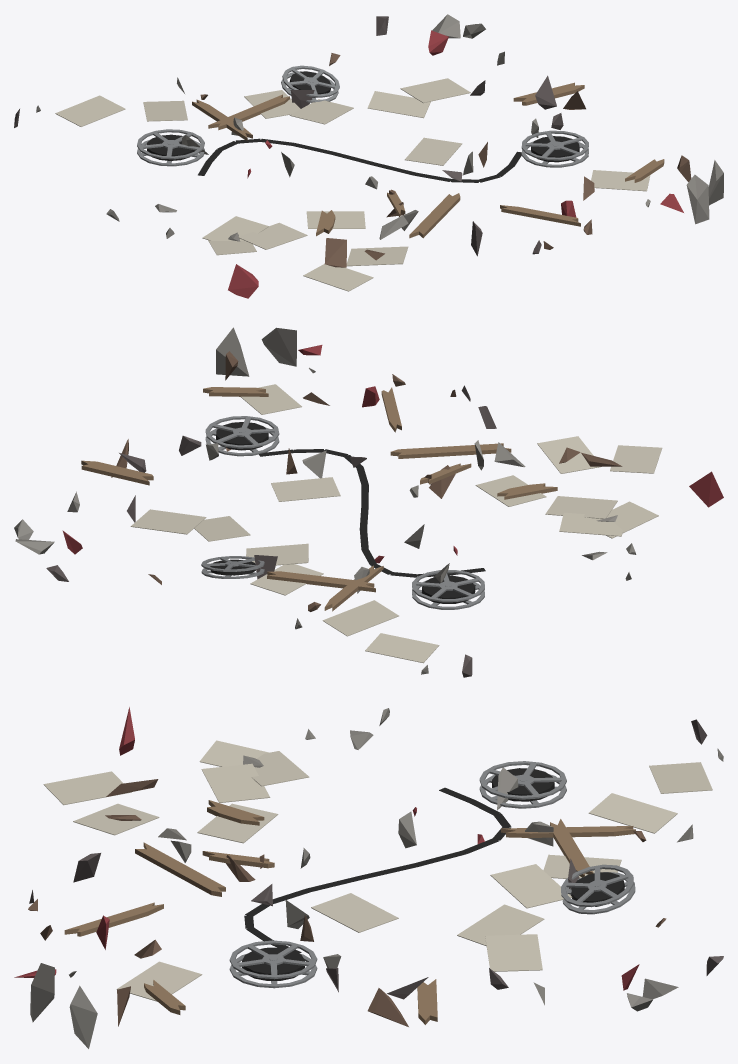
Rendered from debris_scatter.glb.
The picture shows the model from 3 angles, top to bottom: view 1: azimuth 30°, elevation 25°; view 2: azimuth 150°, elevation 25°; view 3: azimuth 270°, elevation 25°; orthographic projection. The views are drawn at different scales.
Parts seen in each view (by area): view 1: paper__debris_scatter__ns, plank__debris_scatter__ns, steel__debris_scatter__ns, concrete__debris_scatter__ns, rubber__debris_scatter__ns, ceiling_theater__debris_scatter__ns, stone__debris_scatter__ns, wall_theater__debris_scatter__ns; view 2: paper__debris_scatter__ns, plank__debris_scatter__ns, concrete__debris_scatter__ns, steel__debris_scatter__ns, rubber__debris_scatter__ns, ceiling_theater__debris_scatter__ns, stone__debris_scatter__ns, wall_theater__debris_scatter__ns; view 3: paper__debris_scatter__ns, plank__debris_scatter__ns, concrete__debris_scatter__ns, steel__debris_scatter__ns, rubber__debris_scatter__ns, ceiling_theater__debris_scatter__ns, stone__debris_scatter__ns, wall_theater__debris_scatter__ns.
Part boxes in pixels (box(x1,y1,x2,y2)): paper__debris_scatter__ns: box(55, 78, 650, 291); plank__debris_scatter__ns: box(192, 82, 664, 238); steel__debris_scatter__ns: box(137, 65, 588, 167); concrete__debris_scatter__ns: box(36, 14, 723, 241); rubber__debris_scatter__ns: box(147, 71, 579, 182); ceiling_theater__debris_scatter__ns: box(200, 53, 691, 267); stone__debris_scatter__ns: box(14, 16, 563, 256); wall_theater__debris_scatter__ns: box(228, 30, 683, 298); paper__debris_scatter__ns: box(130, 384, 662, 663); plank__debris_scatter__ns: box(81, 387, 557, 611); concrete__debris_scatter__ns: box(14, 327, 636, 674); steel__debris_scatter__ns: box(201, 416, 484, 609); rubber__debris_scatter__ns: box(210, 422, 485, 603); ceiling_theater__debris_scatter__ns: box(111, 351, 622, 611); stone__debris_scatter__ns: box(46, 385, 496, 677); wall_theater__debris_scatter__ns: box(62, 345, 723, 563); paper__debris_scatter__ns: box(43, 740, 712, 1001); plank__debris_scatter__ns: box(64, 800, 635, 1024); concrete__debris_scatter__ns: box(30, 708, 723, 1048); steel__debris_scatter__ns: box(229, 761, 635, 988); rubber__debris_scatter__ns: box(242, 768, 624, 980); ceiling_theater__debris_scatter__ns: box(28, 779, 666, 1026); stone__debris_scatter__ns: box(29, 719, 723, 999); wall_theater__debris_scatter__ns: box(14, 707, 639, 990).
Bounding box in the file's own units: 2.96 × 0.2519 × 2.84.
